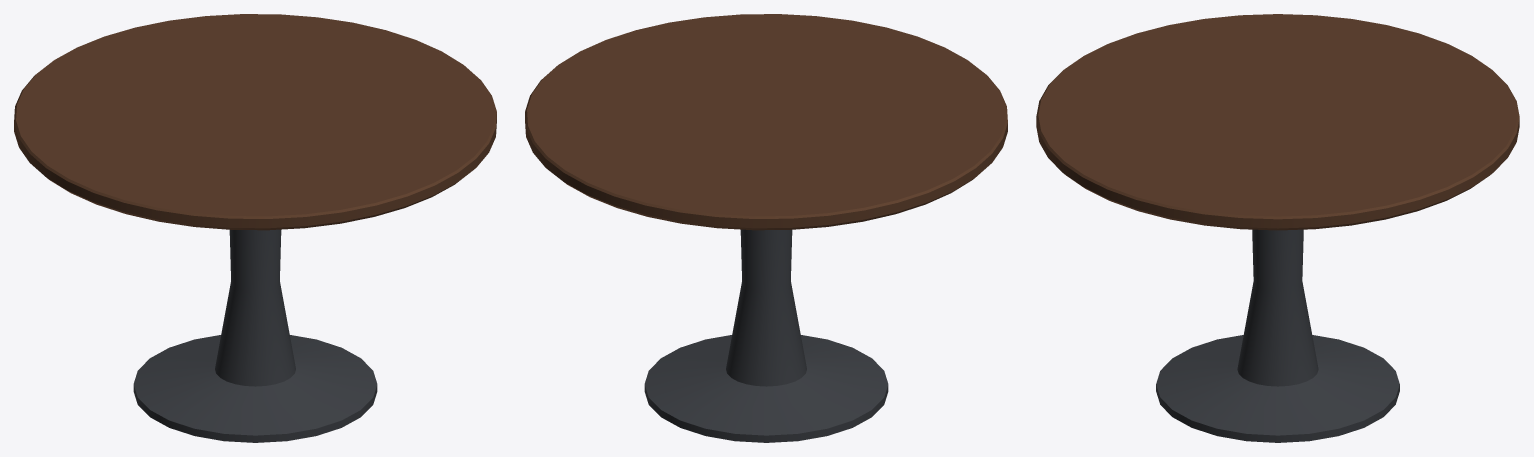
File: prop_table_round_d120.glb
3 renders of one model, left to right at view 1: azimuth 30°, elevation 25°; view 2: azimuth 150°, elevation 25°; view 3: azimuth 270°, elevation 25°, orthographic.
Parts seen in each view (by area): view 1: Table; view 2: Table; view 3: Table.
Boxes of the visible parts, box(x1,y1,x2,y2) form: Table: box(14, 14, 496, 442); Table: box(525, 14, 1007, 442); Table: box(1036, 14, 1519, 442).
Size of what is drawn, in the model's own units: 1.19 by 0.75 by 1.19.
